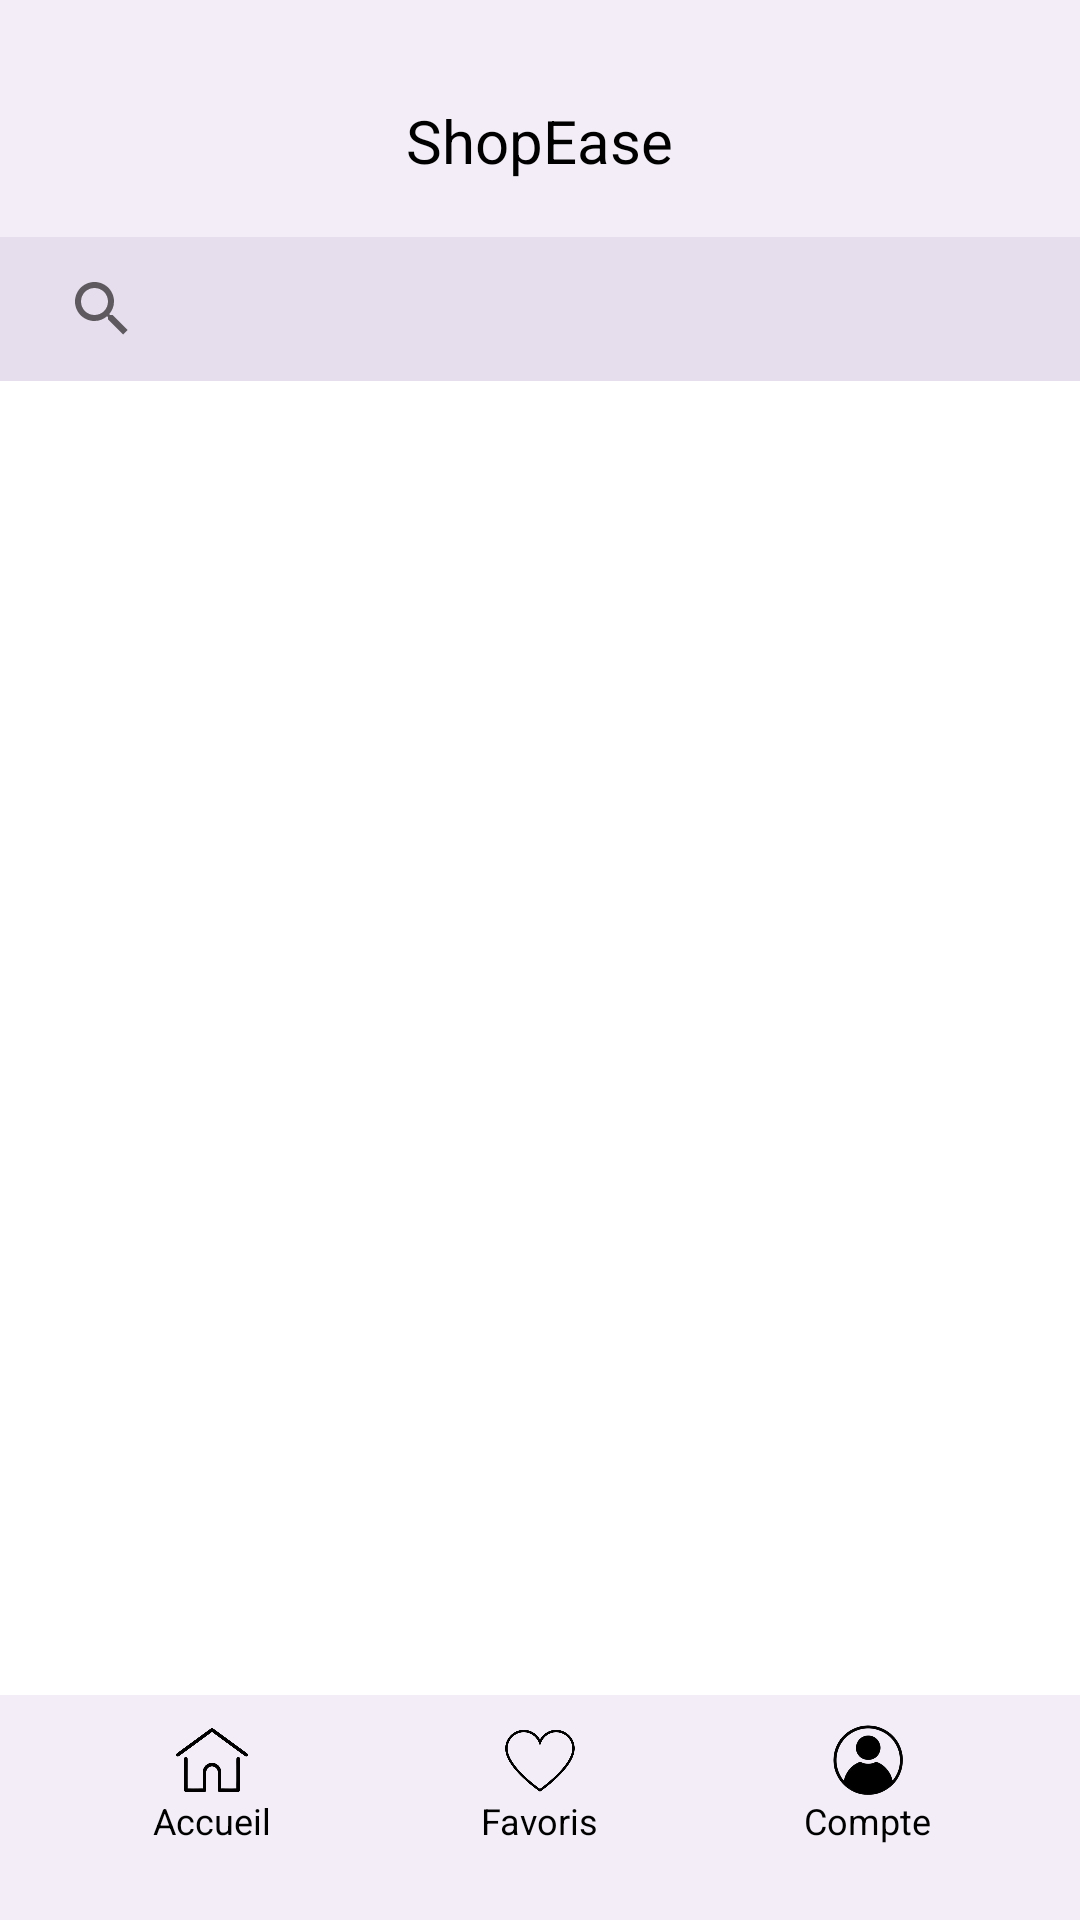

Icon bounding boxes for this 1080 × 1920 phone screenshot, format (x1, y1, x2, y2):
heart: (505, 1730, 575, 1792)
